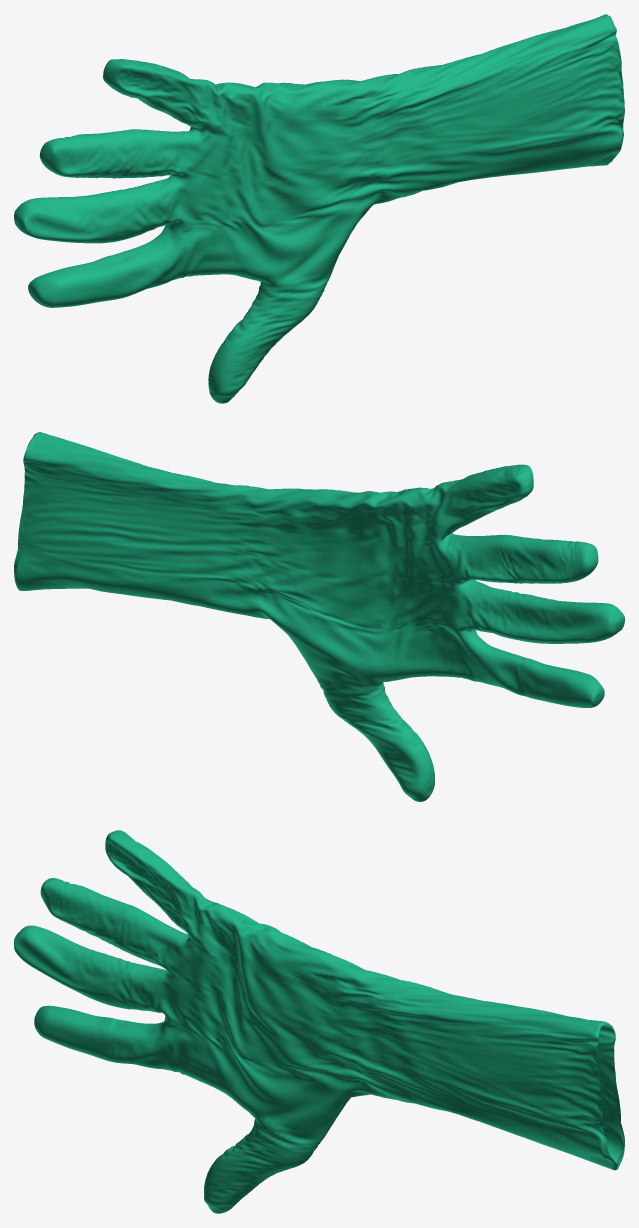
The model's file is glove.fbx.
The picture shows the model from 3 angles, top to bottom: view 1: azimuth 30°, elevation 25°; view 2: azimuth 150°, elevation 25°; view 3: azimuth 330°, elevation 25°; orthographic projection. The views are drawn at different scales.
Parts seen in each view (by area): view 1: imagetostl_mesh0, imagetostl_mesh1; view 2: imagetostl_mesh0, imagetostl_mesh1; view 3: imagetostl_mesh0, imagetostl_mesh1.
Boxes of the visible parts, x1,y1,x2,y2 form: imagetostl_mesh0: (28,14,624,403); imagetostl_mesh1: (14,107,534,243); imagetostl_mesh0: (14,432,604,801); imagetostl_mesh1: (175,529,624,643); imagetostl_mesh0: (34,830,624,1213); imagetostl_mesh1: (14,879,512,1075).
Bounding box in the file's own units: 499 × 288 × 42.57.
